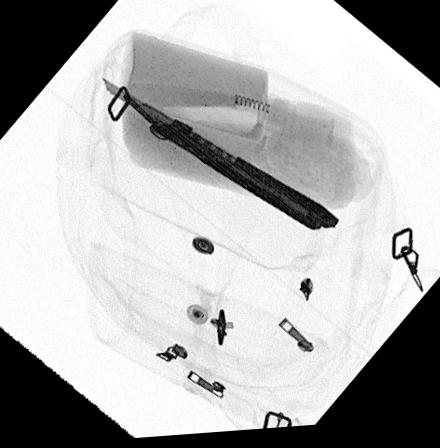Knife: (103, 78, 338, 235)
